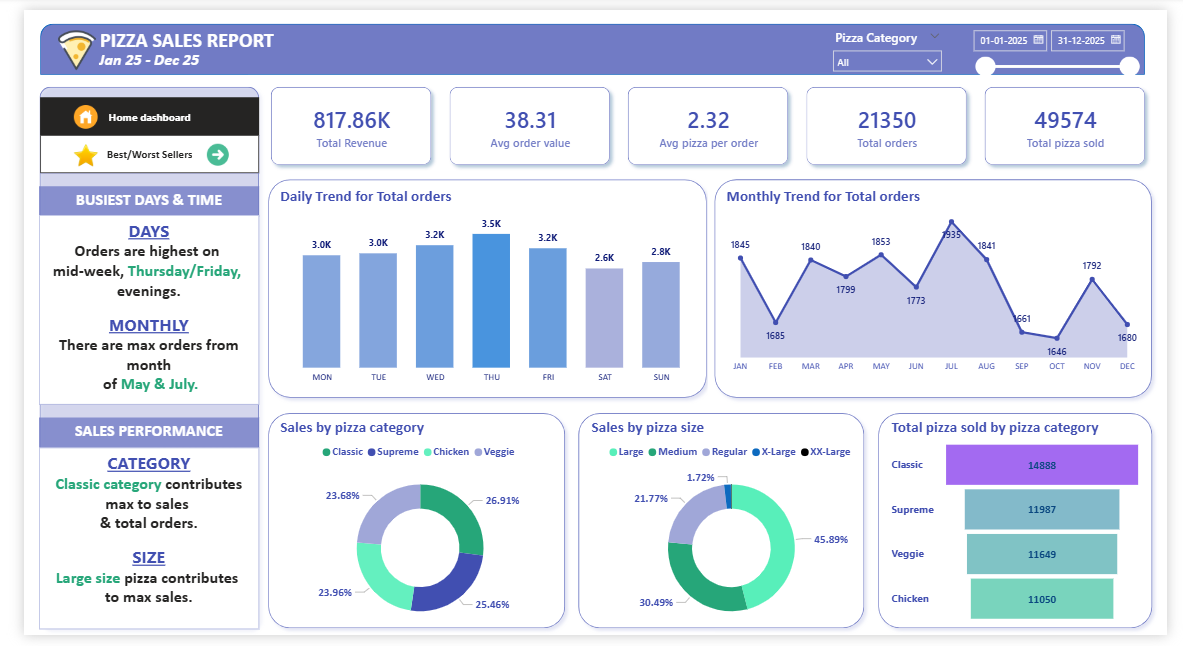

Layout of this report page (visuals, bound fields, positions):
{"tool":"powerbi","page":{"name":"Home dashboard","canvas":[1500,820],"ordinal":0},"visuals":[{"type":"cardVisual","fields":{"Data":["pizza_sales.Total Revenue","pizza_sales.Avg order value","pizza_sales.Avg pizza per order","pizza_sales.Total orders","pizza_sales.Total pizza sold"]},"box":[295.7,71.4,1204.3,160],"z":0},{"type":"shape","box":[21.4,18.6,1448.6,67],"z":1000},{"type":"textbox","box":[45.7,18.6,335.7,47.1],"z":2000},{"type":"textbox","box":[92.9,47.1,142.9,40],"z":3000},{"type":"shape","box":[311.4,212.9,592.9,304.3],"z":5000},{"type":"columnChart","title":"Daily Trend for Total orders","fields":{"Category":["pizza_sales.Order day"],"Y":["pizza_sales.Total orders"]},"box":[331.4,231.4,565.7,267.1],"z":6000},{"type":"shape","box":[897.1,212.9,591.4,304.3],"z":7000},{"type":"areaChart","title":"Monthly Trend for Total orders","fields":{"Category":["pizza_sales.Order month"],"Y":["pizza_sales.Total orders"]},"box":[915.7,231.4,554.3,252.9],"z":8000},{"type":"shape","box":[311.4,520,407.1,300],"z":9000},{"type":"shape","box":[1111.4,520,377.1,300],"z":10000},{"type":"shape","box":[718.6,520,392.9,300],"z":11000},{"type":"donutChart","title":"Sales by pizza category","fields":{"Category":["pizza_sales.pizza_category"],"Y":["pizza_sales.Total Revenue"]},"box":[331.4,534.3,377.1,285.7],"z":11001},{"type":"donutChart","title":"Sales by pizza size","fields":{"Y":["pizza_sales.Total Revenue"],"Category":["pizza_sales.pizza_size"]},"box":[738.6,534.3,377.1,285.7],"z":11002},{"type":"funnel","title":"Total pizza sold by pizza category","fields":{"Category":["pizza_sales.pizza_category"],"Y":["pizza_sales.Total pizza sold"]},"box":[1132.9,534.3,338.6,278.6],"z":11003},{"type":"image","box":[34.3,25.7,70,52.9],"z":11004},{"type":"shape","box":[11.4,91.4,305.7,728.6],"z":11005},{"type":"textbox","box":[20,231.4,288.6,40],"z":11006},{"type":"textbox","box":[20,268.6,288.6,248.6],"z":11007},{"type":"textbox","box":[20,534.3,288.6,40],"z":11008},{"type":"textbox","box":[20,574.3,288.6,238.6],"z":11009},{"type":"slicer","fields":{"Values":["pizza_sales.order_date"]},"box":[1232.9,15.7,238.6,71.4],"z":11010},{"type":"slicer","fields":{"Values":["pizza_sales.pizza_category"]},"box":[1051.4,20,162.9,71.4],"z":11011},{"type":"pageNavigator","box":[21.4,114.3,287.1,50],"z":11012},{"type":"pageNavigator","box":[21.4,164.3,287.1,50],"z":11013},{"type":"image","box":[225.7,175.7,55.7,28.6],"z":11014},{"type":"image","box":[57.1,124.3,47.1,31.4],"z":11015},{"type":"image","box":[64.3,170,34.3,40],"z":11016}]}

Visuals, with their boxes in screenshot pixels (x1, y1, x2, y2), scaled from the page's 1500x820 canvas onto the 1183x646 screenshot:
cardVisual - pizza_sales.Total Revenue x pizza_sales.Avg order value: <box>233,56,1182,182</box>
shape: <box>17,15,1159,67</box>
textbox: <box>36,15,301,52</box>
textbox: <box>73,37,186,69</box>
shape: <box>246,168,713,407</box>
"Daily Trend for Total orders" columnChart: <box>261,182,708,393</box>
shape: <box>708,168,1174,407</box>
"Monthly Trend for Total orders" areaChart: <box>722,182,1159,382</box>
shape: <box>246,410,567,645</box>
shape: <box>877,410,1174,645</box>
shape: <box>567,410,877,645</box>
"Sales by pizza category" donutChart: <box>261,421,559,645</box>
"Sales by pizza size" donutChart: <box>583,421,880,645</box>
"Total pizza sold by pizza category" funnel: <box>893,421,1161,640</box>
image: <box>27,20,82,62</box>
shape: <box>9,72,250,645</box>
textbox: <box>16,182,243,214</box>
textbox: <box>16,212,243,407</box>
textbox: <box>16,421,243,452</box>
textbox: <box>16,452,243,640</box>
slicer - pizza_sales.order_date: <box>972,12,1161,69</box>
slicer - pizza_sales.pizza_category: <box>829,16,958,72</box>
pageNavigator: <box>17,90,243,129</box>
pageNavigator: <box>17,129,243,169</box>
image: <box>178,138,222,161</box>
image: <box>45,98,82,123</box>
image: <box>51,134,78,165</box>
